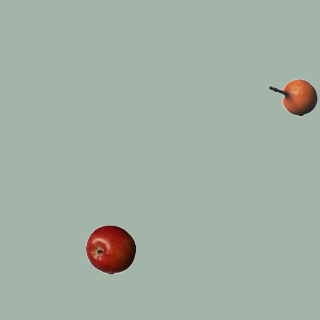Apple Braeburn: (85, 224, 135, 274)
Granadilla: (267, 72, 317, 122)
